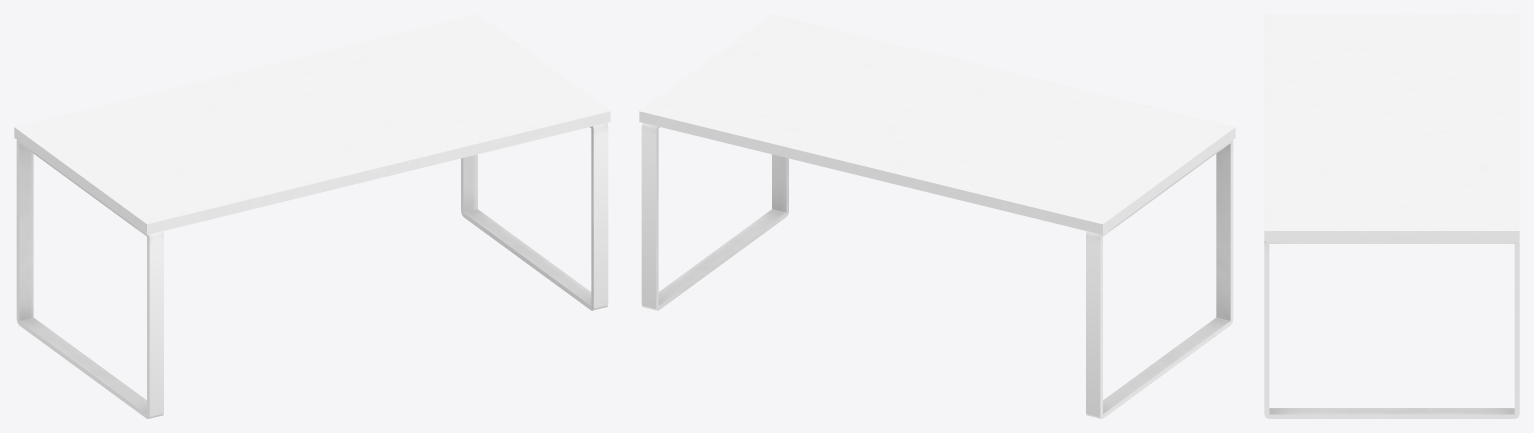
Rendered from Desk.glb.
3 views of the same model, side by side, from view 1: azimuth 30°, elevation 25°; view 2: azimuth 150°, elevation 25°; view 3: azimuth 270°, elevation 25° (orthographic). The views are drawn at different scales.
Parts seen in each view (by area): view 1: Desk, Desk.001; view 2: Desk, Desk.001; view 3: Desk, Desk.001.
Boxes of the visible parts, bbox=[...] form: Desk: bbox=[14, 14, 610, 234]; Desk.001: bbox=[16, 123, 608, 418]; Desk: bbox=[639, 14, 1235, 234]; Desk.001: bbox=[641, 123, 1233, 418]; Desk: bbox=[1264, 14, 1519, 241]; Desk.001: bbox=[1264, 241, 1519, 418].
Bounding box in the file's own units: 1.84 × 0.7467 × 0.9128.
1 material, 1 textured.
